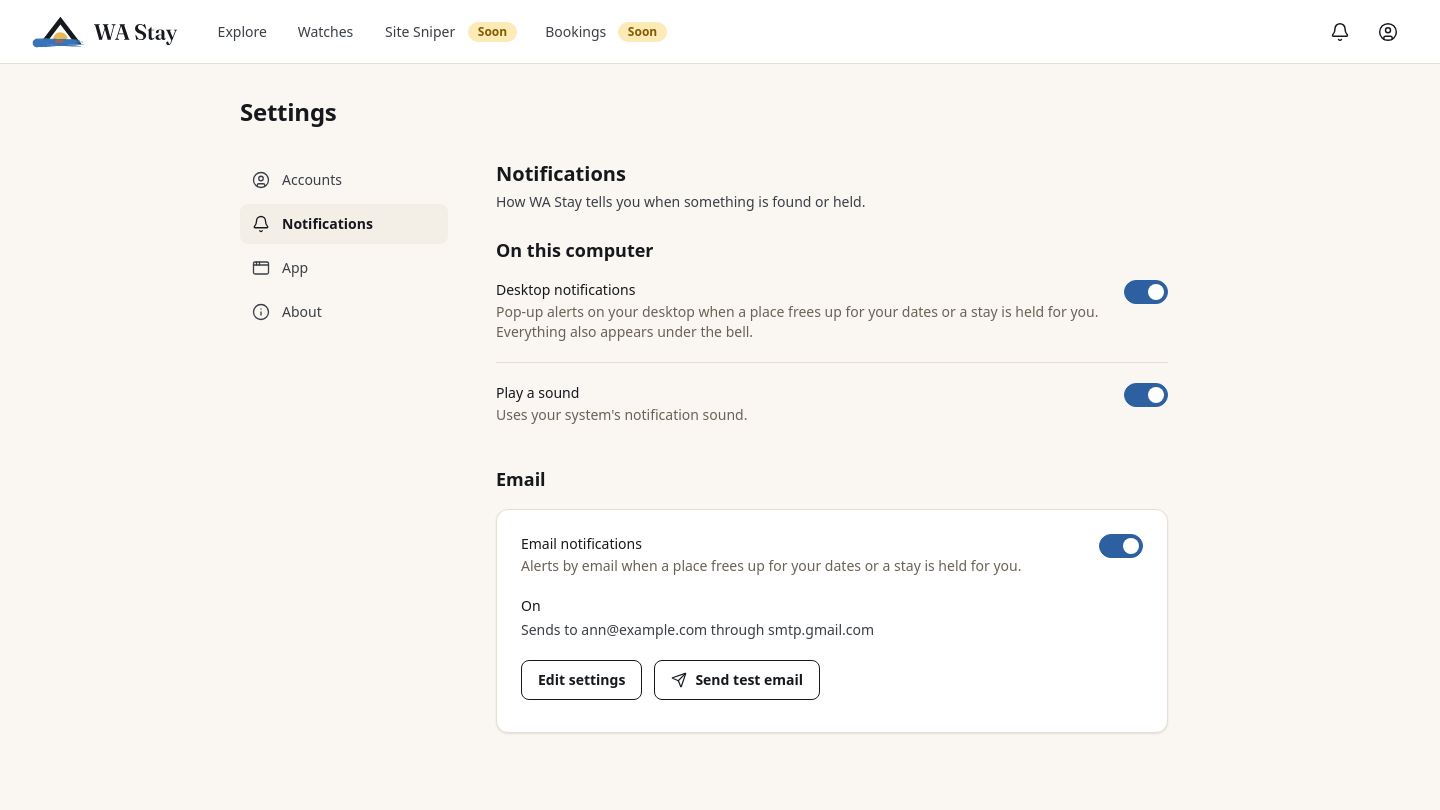
Test: EmailNotifierCard with a stored password (hasPassword) › Replace moves focus into the new password field; Cancel restores "Password saved" and focuses Replace
Click the button "Edit settings": (582, 680) [521,660,642,700]
(page scrolled)
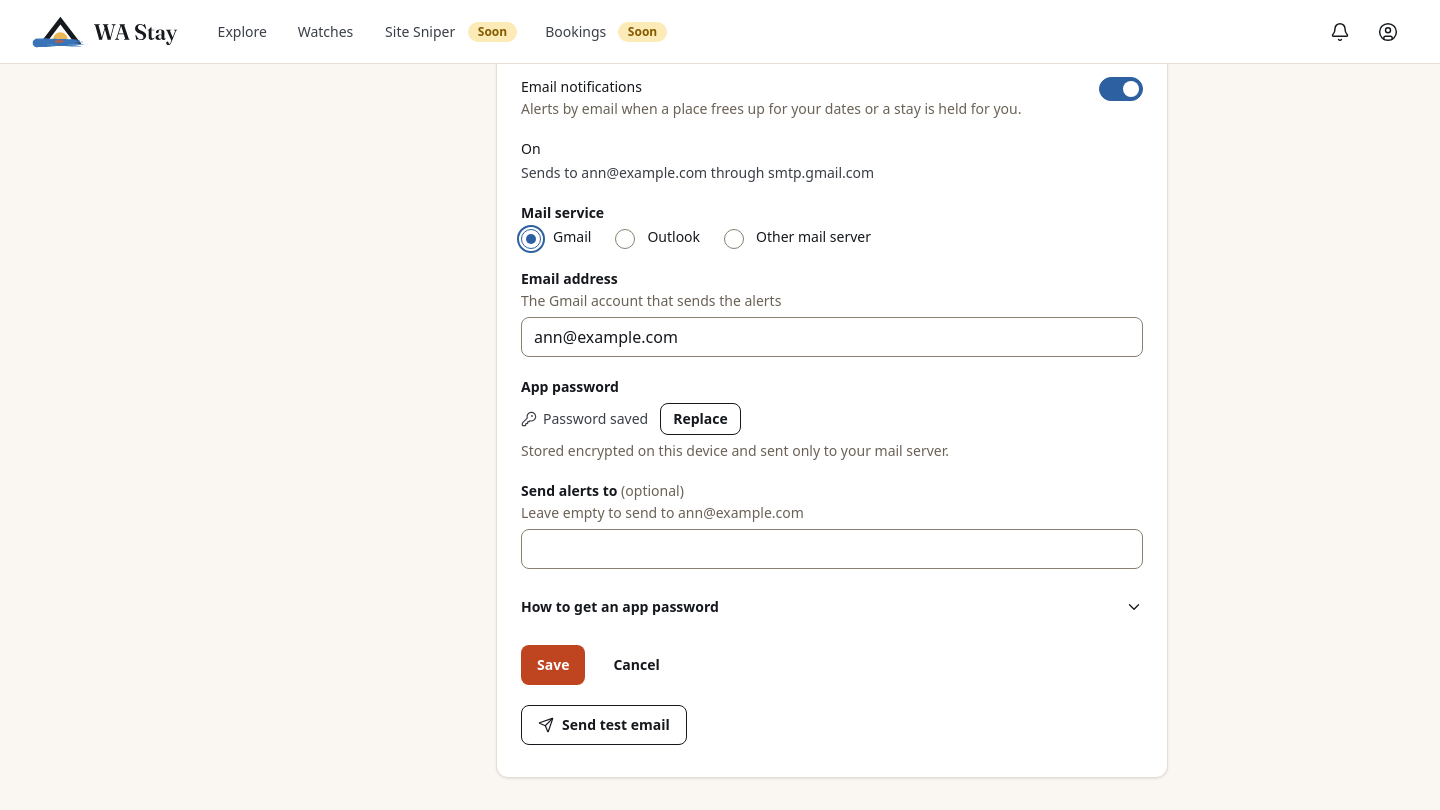
Click the button "Replace": (700, 419) [660,403,741,435]
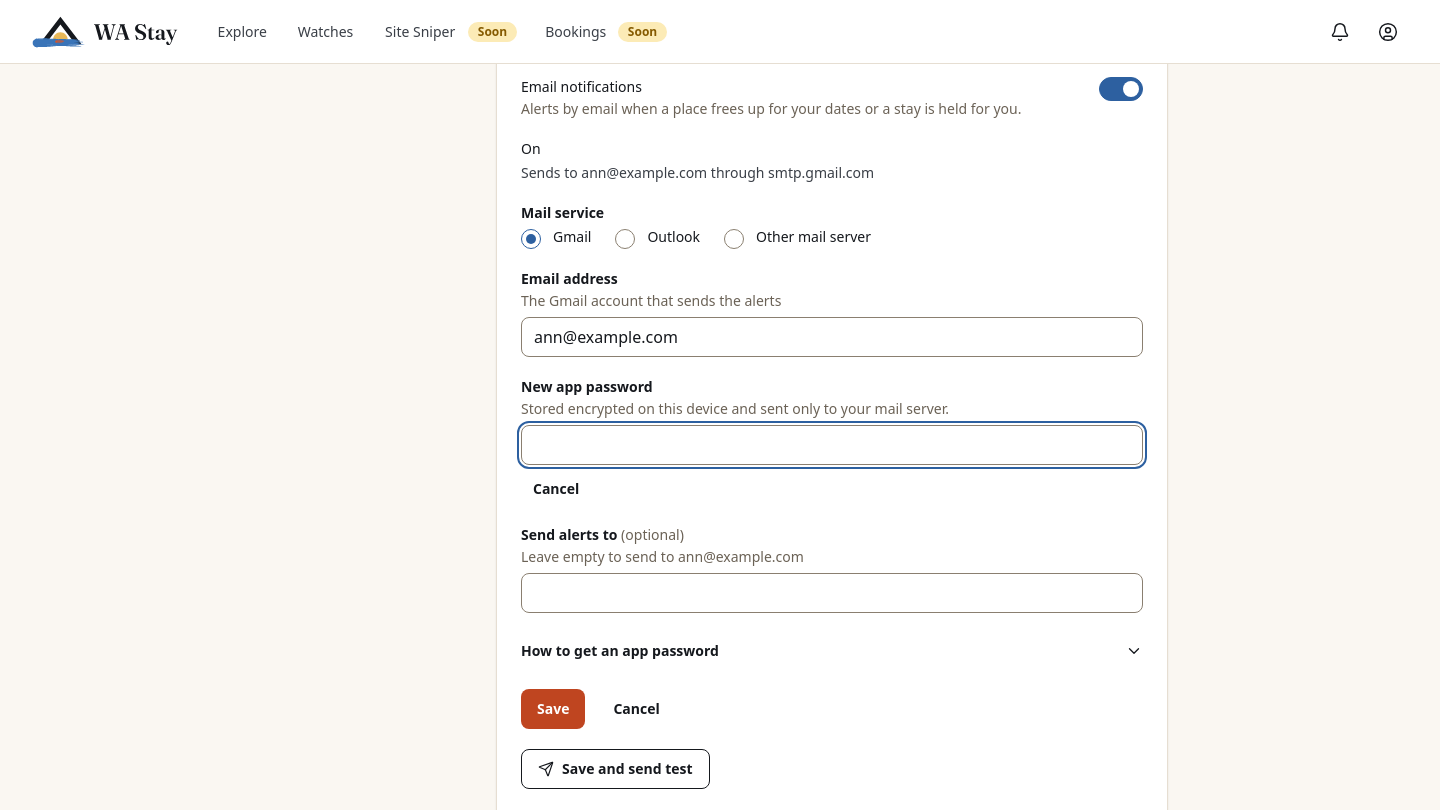
Click the button named "Cancel replacing the password": (556, 489) [521,473,591,505]
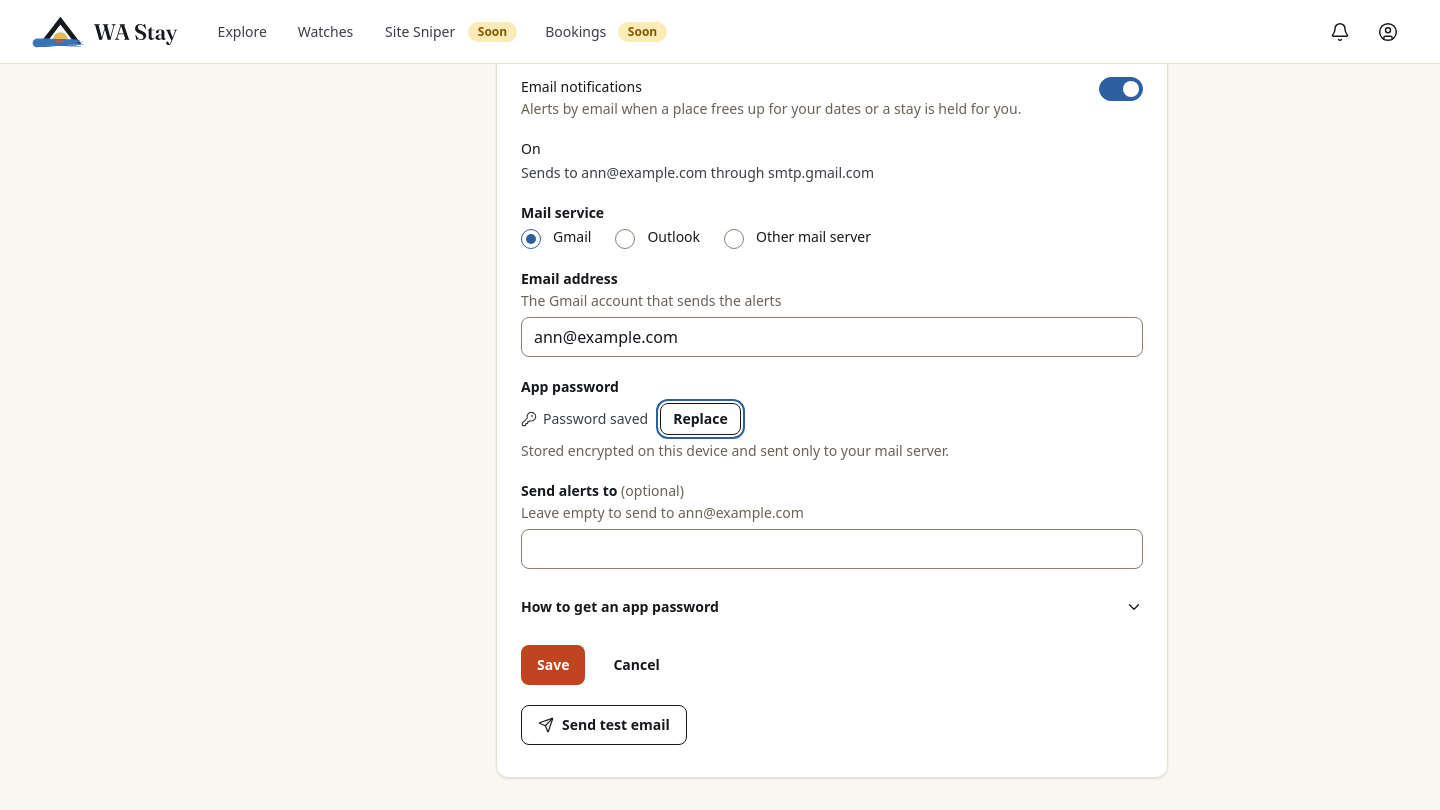
Check: the text "Password saved" is shown, box [521,409,648,429]
